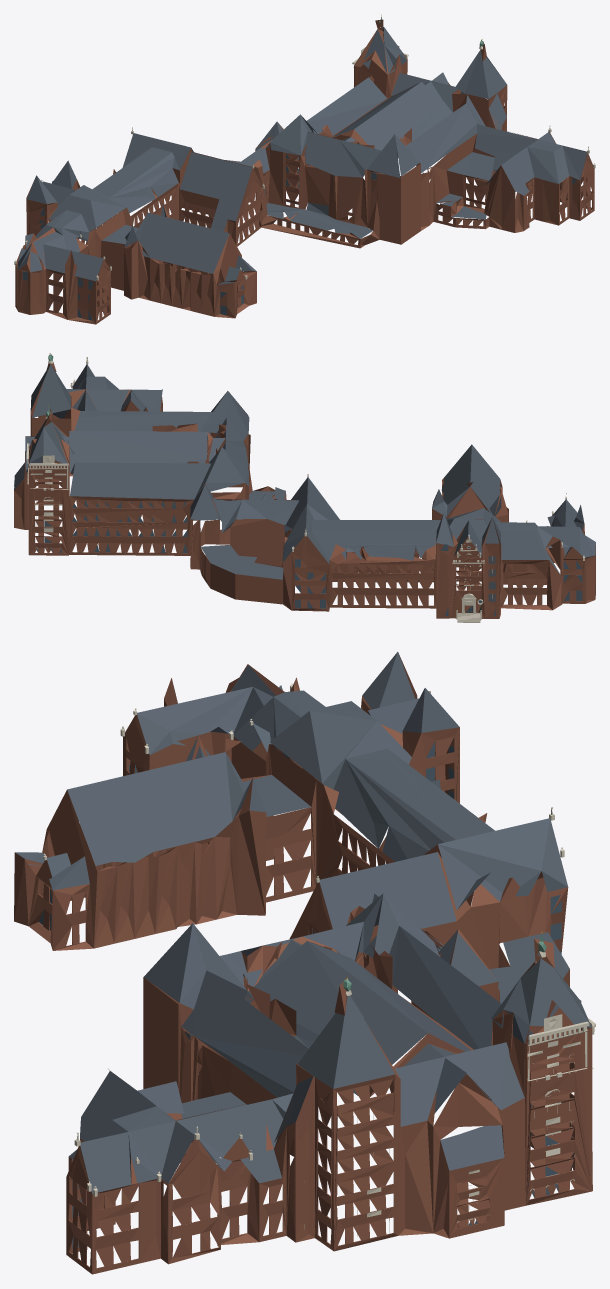
Rendered from tropenmuseum.lod1.glb.
The picture shows the model from 3 angles, top to bottom: view 1: azimuth 30°, elevation 25°; view 2: azimuth 150°, elevation 25°; view 3: azimuth 270°, elevation 25°; orthographic projection. The views are drawn at different scales.
Parts seen in each view (by area): view 1: tropenmuseum; view 2: tropenmuseum; view 3: tropenmuseum.
Boxes of the visible parts, left/top/right/bottom form: tropenmuseum: left=14, top=14, right=595, bottom=324; tropenmuseum: left=14, top=353, right=595, bottom=622; tropenmuseum: left=14, top=652, right=595, bottom=1274.
Size of the model in its own units: 190 by 45.12 by 93.47.
